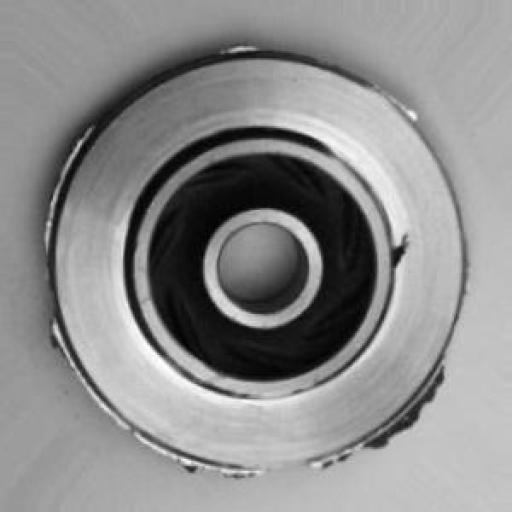defect: (30, 34, 486, 478)
